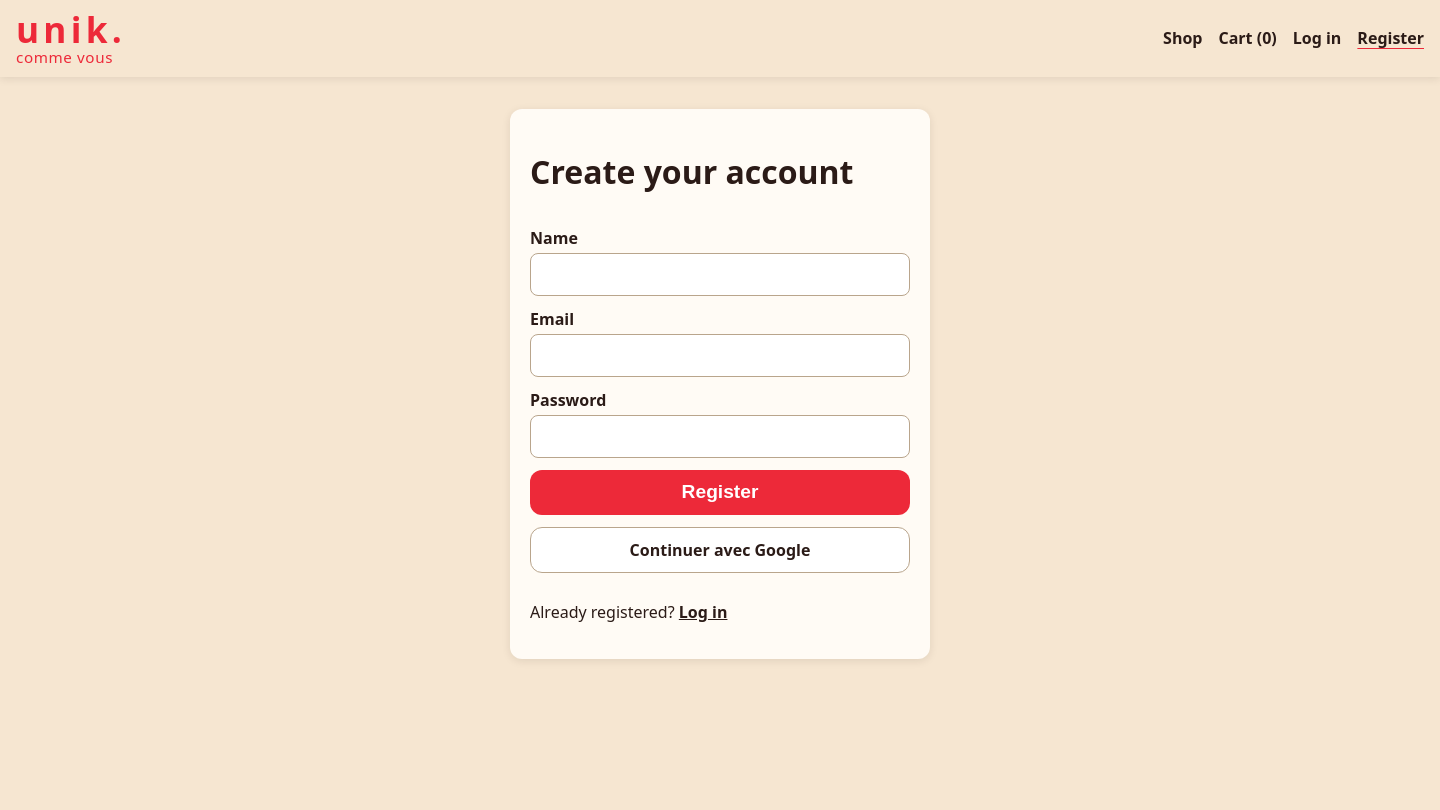
register requires a password of 8+ characters
Type "Ann" into the field labelled "Name" at x=720, y=274, box [530, 253, 910, 296]
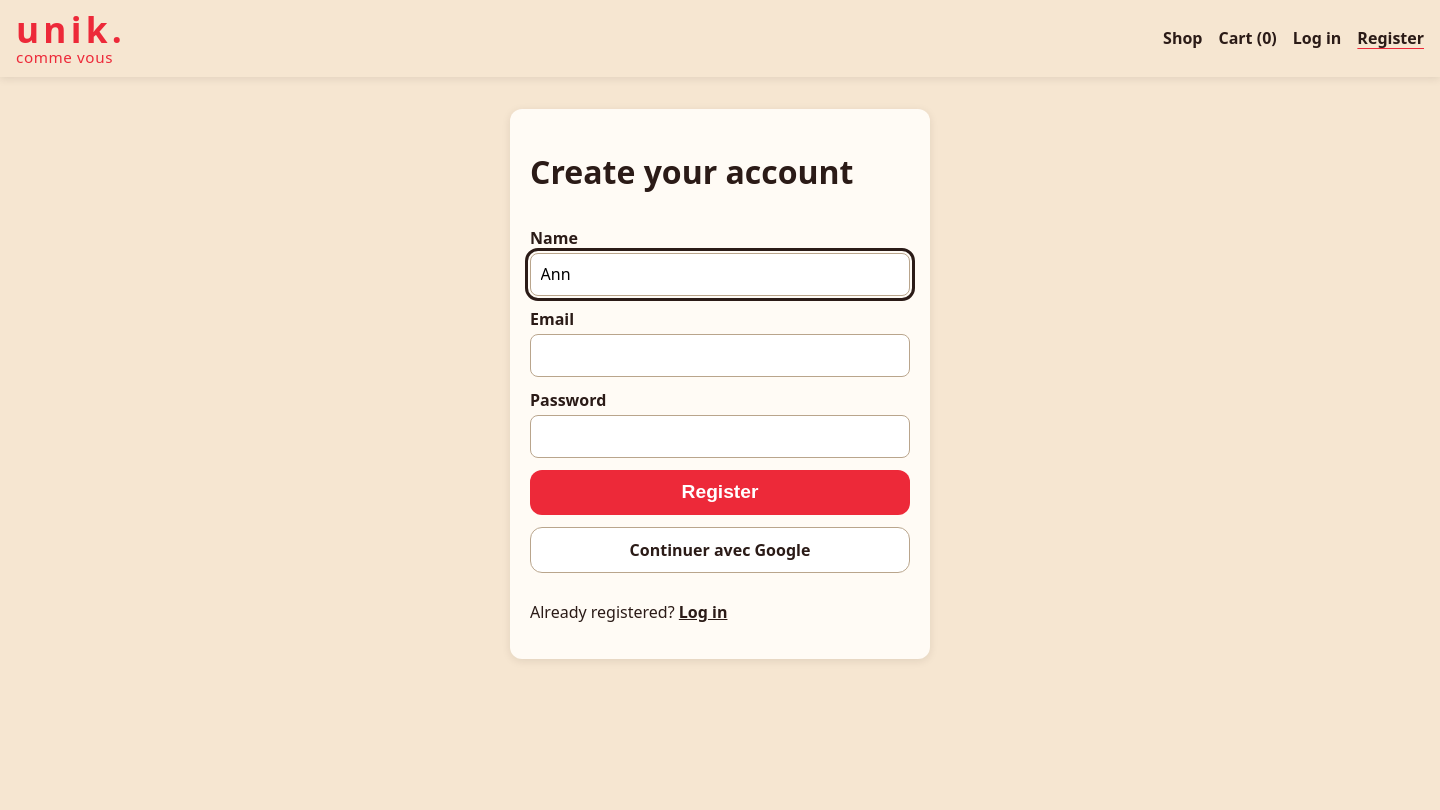
Type "a@b.co" into the field labelled "Email" at x=720, y=356, box [530, 334, 910, 377]
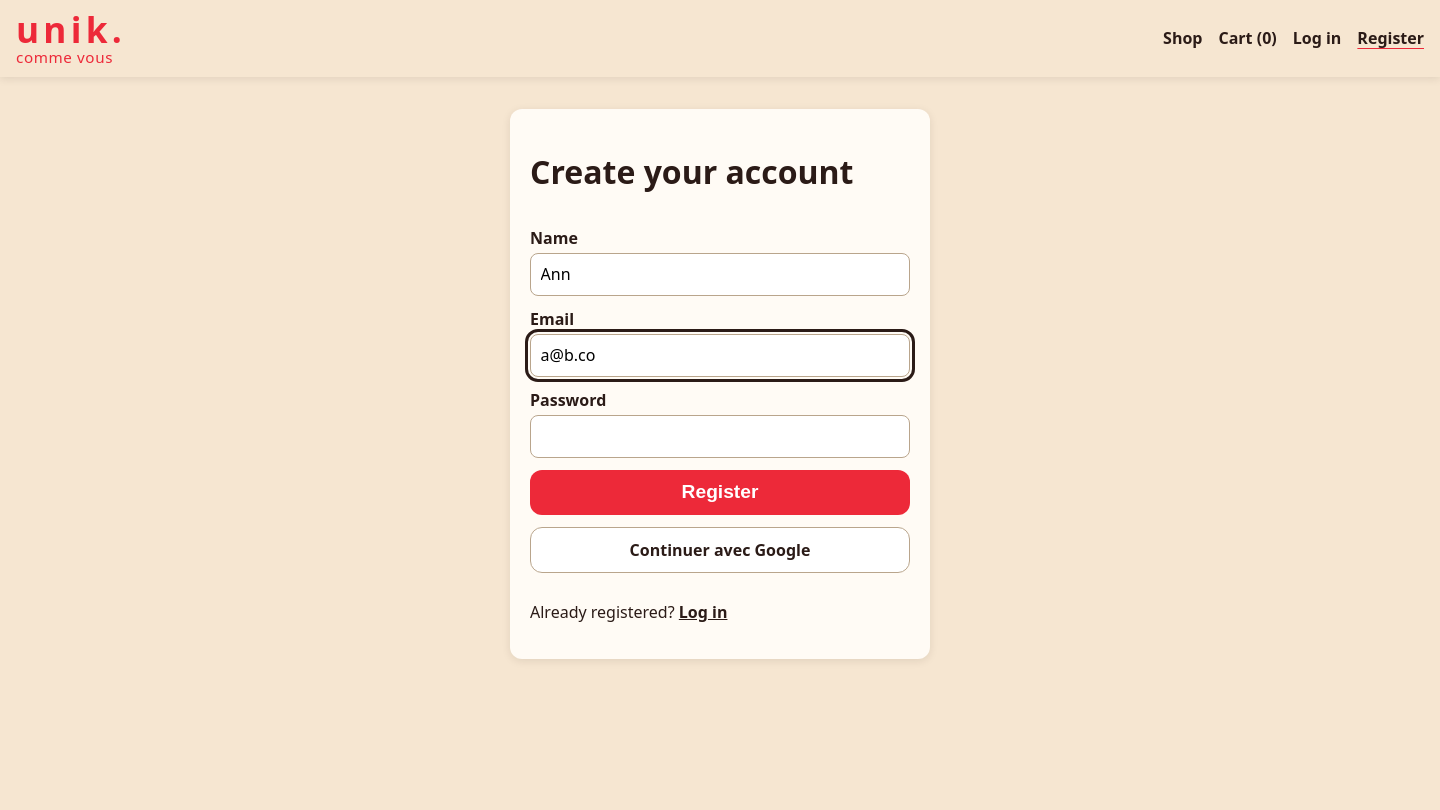
Type "short" into the password field labelled "Password" at x=720, y=437, box [530, 415, 910, 458]
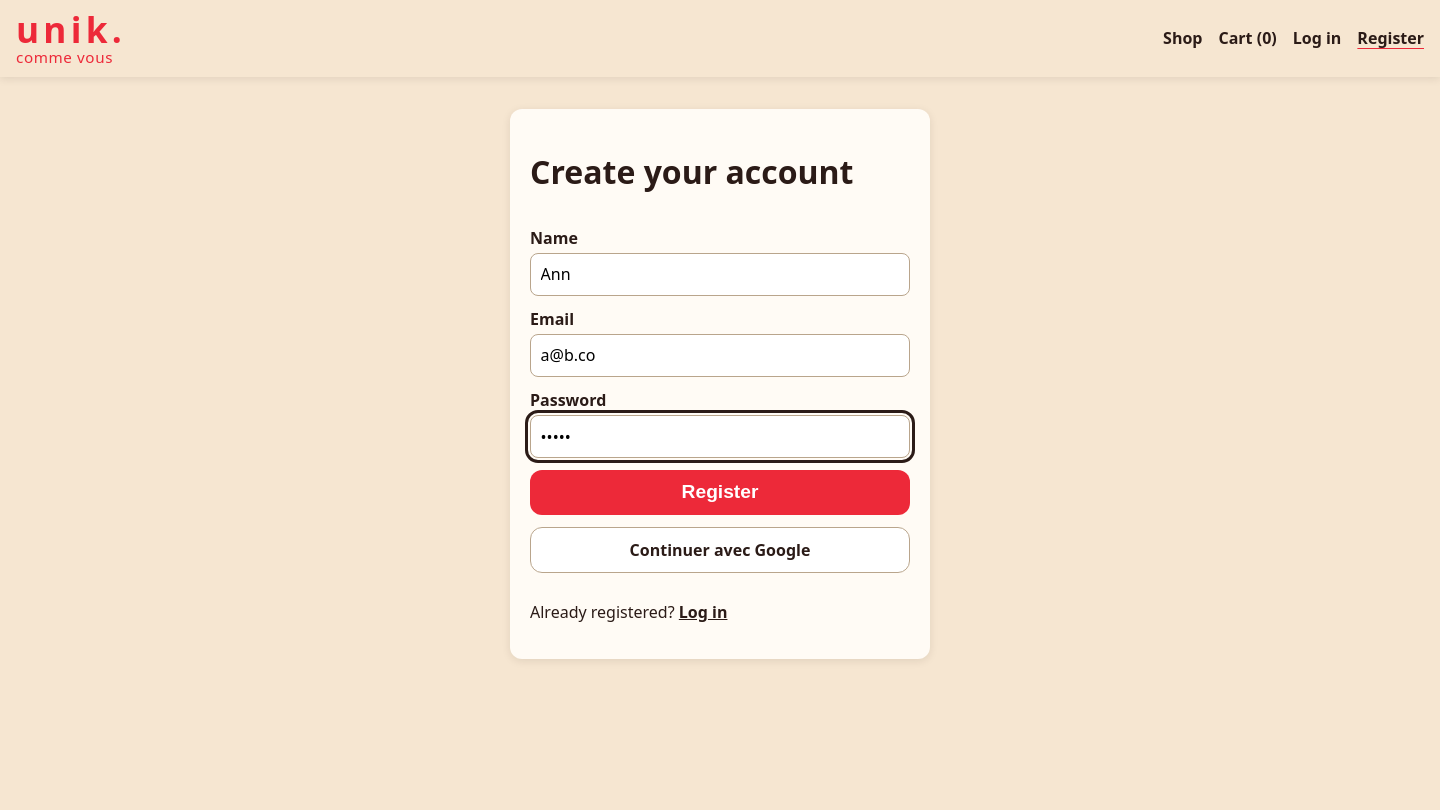
Click the button "Register" at x=720, y=492, box [530, 470, 910, 515]
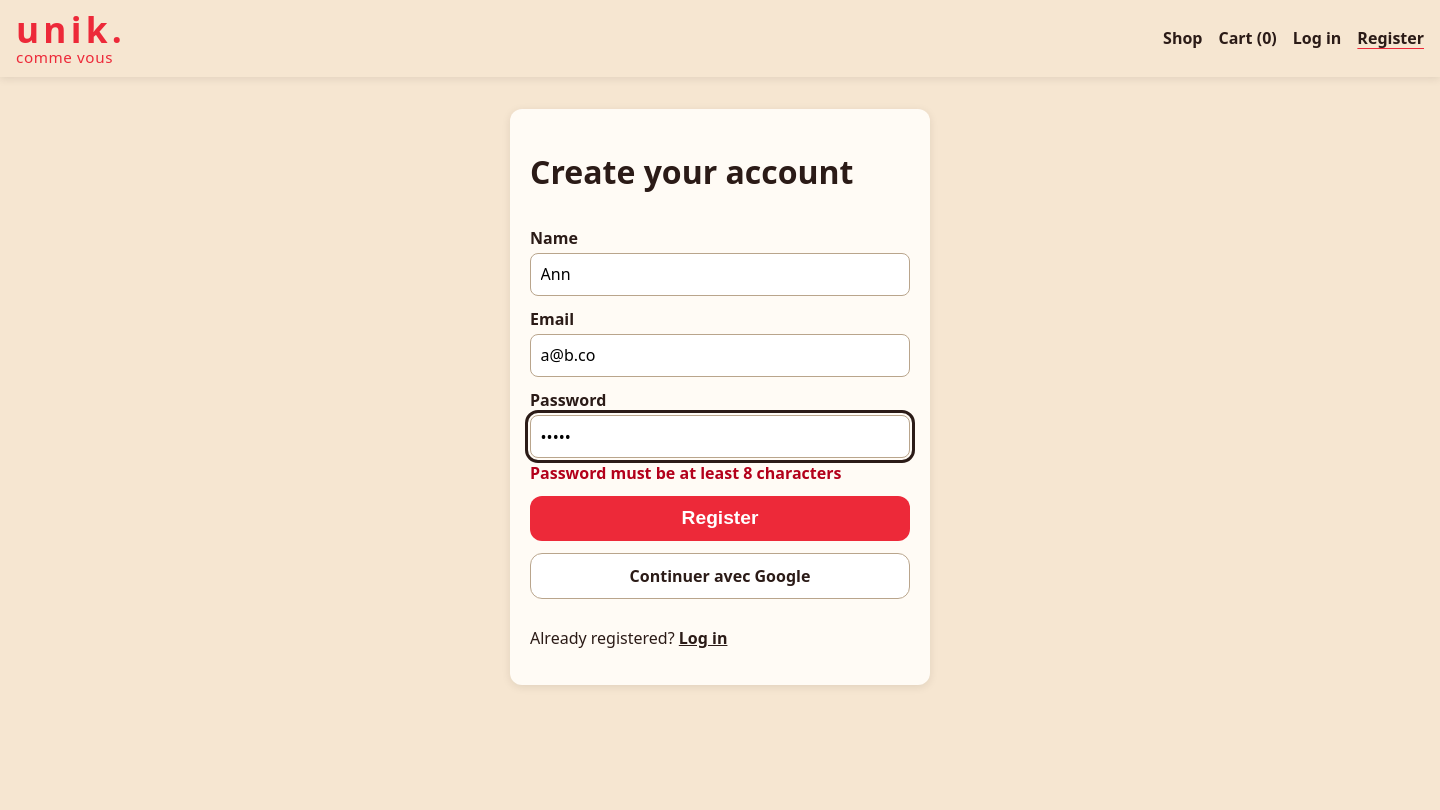
Result: the text "Password must be at least 8 characters" is shown at [530, 462, 842, 484]
